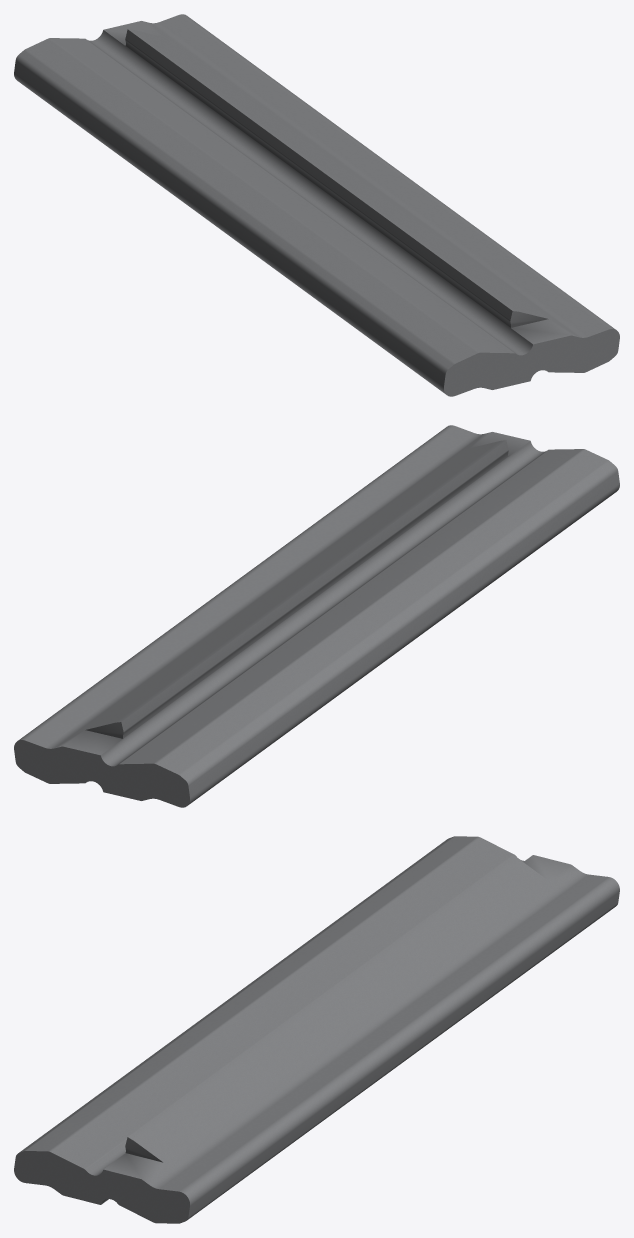
Rendered from quarry-metal-blow-bar.glb.
The picture shows the model from 3 angles, top to bottom: view 1: azimuth 30°, elevation 25°; view 2: azimuth 150°, elevation 25°; view 3: azimuth 330°, elevation 25°; orthographic projection.
Visible parts, largest first — view 1: metal; view 2: metal; view 3: metal.
Boxes of the visible parts, x1,y1,x2,y2 form: metal: (14, 14, 619, 396); metal: (14, 425, 619, 807); metal: (14, 836, 619, 1223).
Bounding box in the file's own units: 0.5311 × 0.1998 × 2.25.
Materials: 1 (1 with a texture image).
